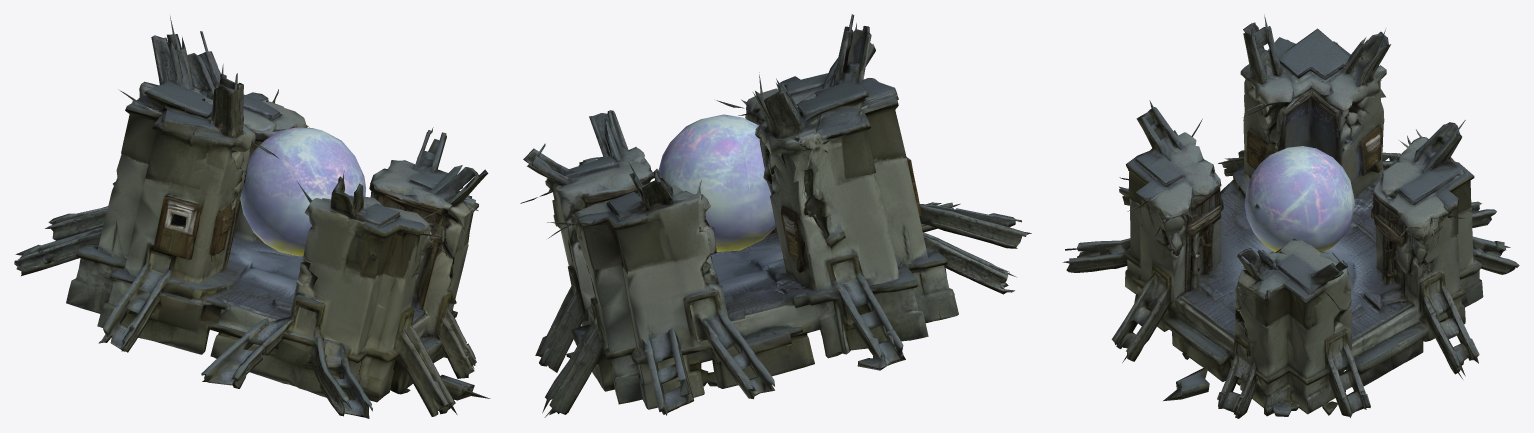
File: Nexo1.glb
The picture shows the model from 3 angles, left to right: view 1: azimuth 30°, elevation 25°; view 2: azimuth 150°, elevation 25°; view 3: azimuth 270°, elevation 25°; orthographic projection. The views are drawn at different scales.
Visible parts, largest first — view 1: tripo_node_d9250639-89c5-4e51-8c78-81c0e362ce59; view 2: tripo_node_d9250639-89c5-4e51-8c78-81c0e362ce59; view 3: tripo_node_d9250639-89c5-4e51-8c78-81c0e362ce59.
Part boxes in pixels (x1,y1,x2,y2): tripo_node_d9250639-89c5-4e51-8c78-81c0e362ce59: (14, 16, 490, 418); tripo_node_d9250639-89c5-4e51-8c78-81c0e362ce59: (520, 14, 1031, 417); tripo_node_d9250639-89c5-4e51-8c78-81c0e362ce59: (1062, 14, 1519, 418).
Size of the model in its own units: 0.8661 by 0.7173 by 0.973.
1 material, 1 textured.
